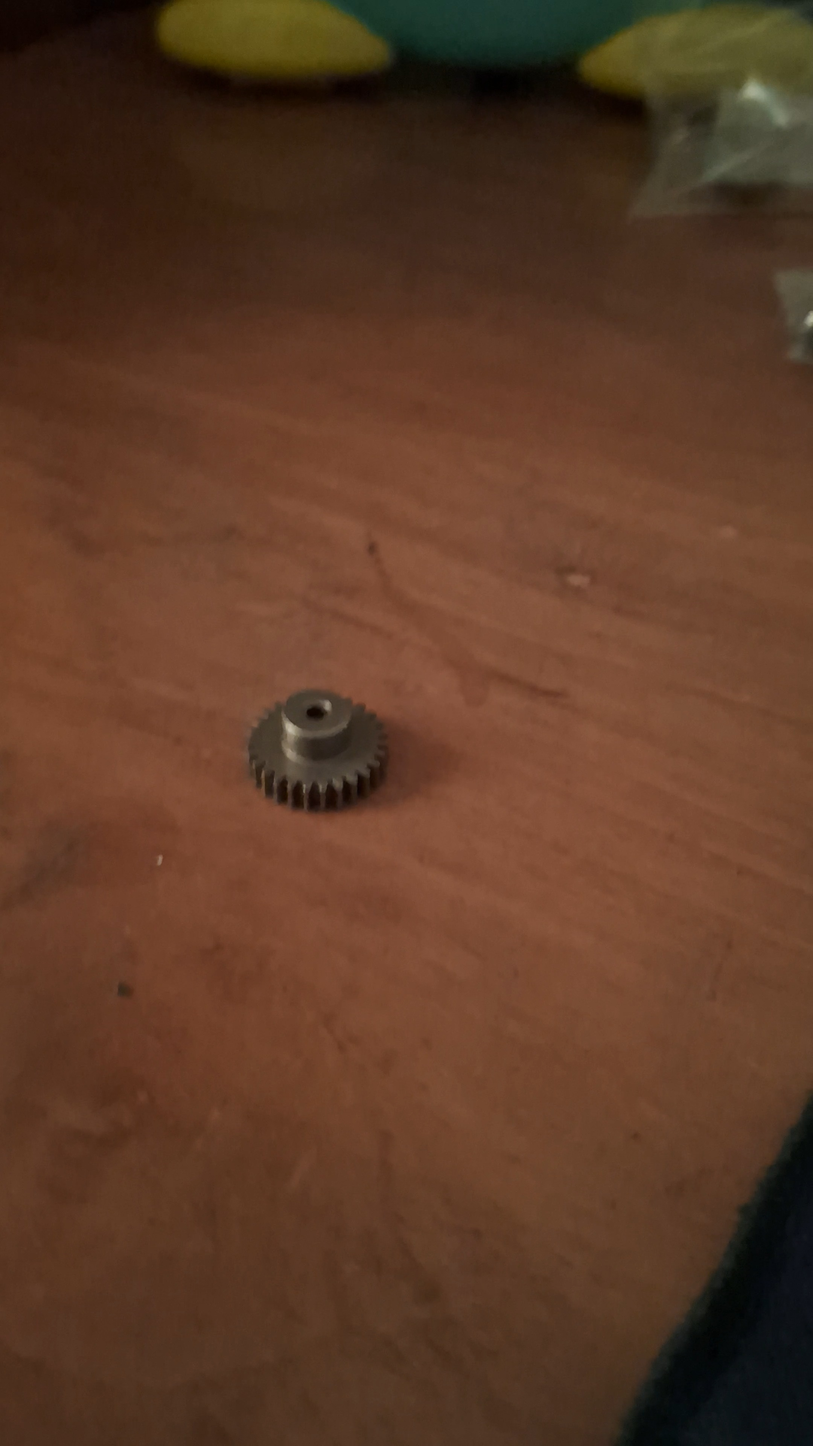spur gear: (248, 690, 387, 810)
